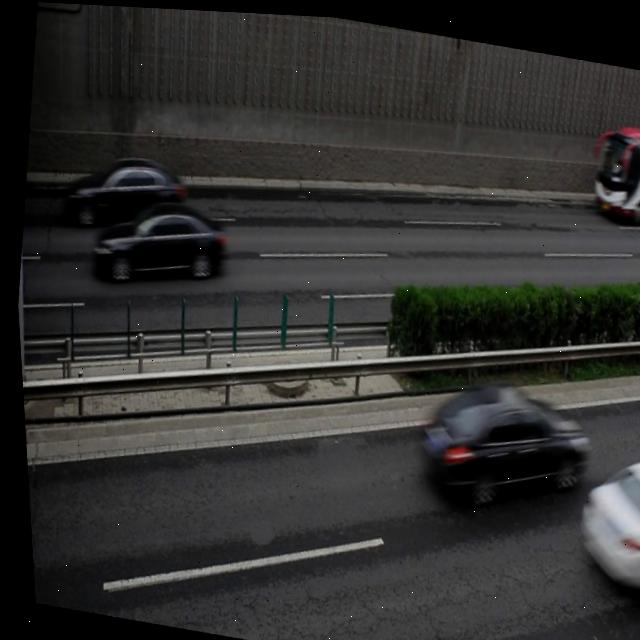car: (406, 360, 588, 508), (87, 191, 226, 293), (62, 142, 189, 239), (562, 451, 640, 587)
van: (583, 110, 640, 220)
